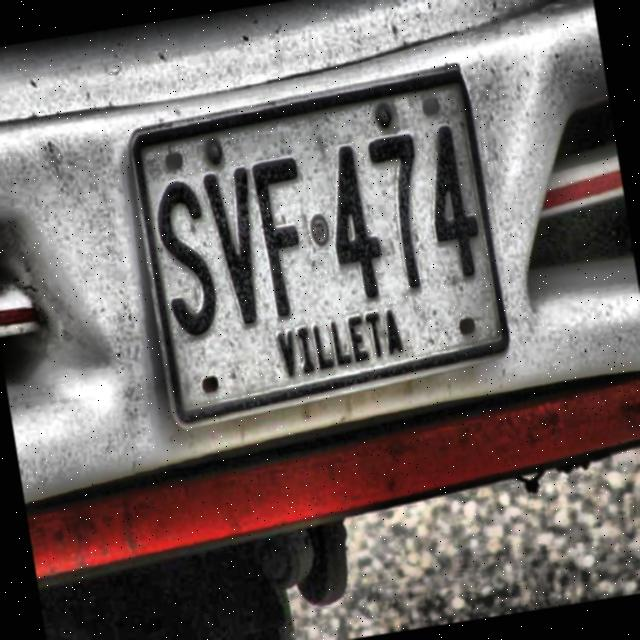4: (417, 119, 490, 287), (318, 144, 391, 308)
7: (366, 126, 440, 298)
F: (246, 152, 324, 324)
S: (150, 175, 227, 348)
V: (200, 160, 274, 334)
